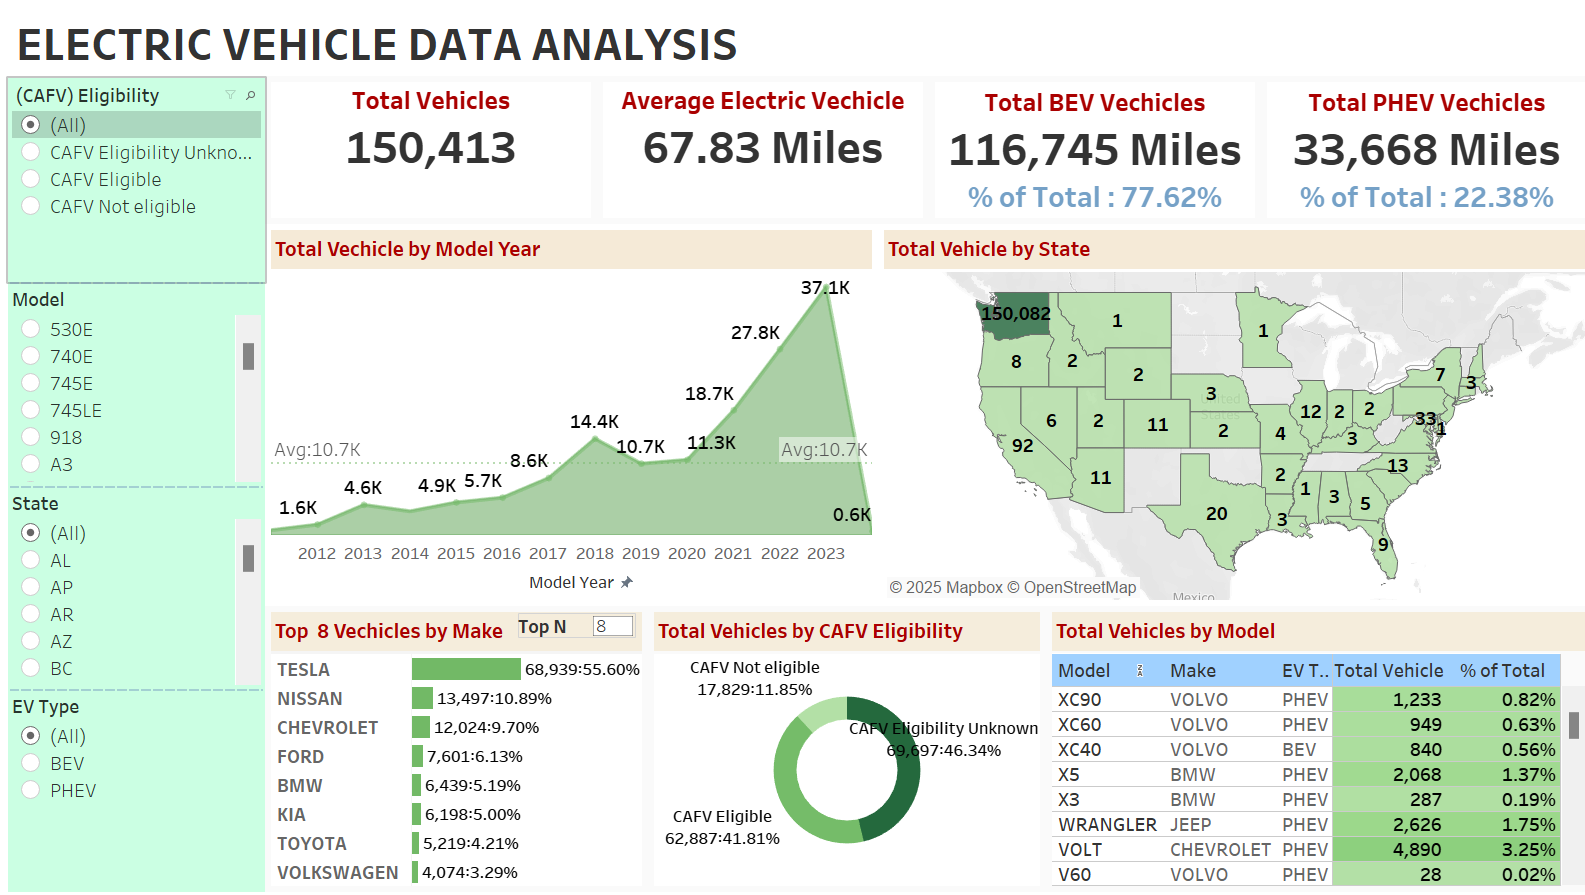

What the dashboard file says about the page in this screenshot:
{"tool":"tableau","page":{"name":"Dashboard 1","canvas":[1600,900],"ordinal":0},"visuals":[{"type":"title","box":[8,8,1584,62]},{"type":"worksheet","title":"Total Vehicle","mark":"Automatic","box":[265,70,332,148]},{"type":"worksheet","title":"Average Electric Vehicle","mark":"Automatic","box":[597,70,332,148]},{"type":"worksheet","title":"Total BEV Vehicles","mark":"Automatic","box":[929,70,332,148]},{"type":"worksheet","title":"Total PHEV Vehicles","mark":"Automatic","box":[1261,70,331,148]},{"type":"filter","title":"Total Vechicle by Model Year","param":"[federated.1fvqeth0szr5161bz7gq1159wcfs].[none:Clean Alternative Fuel Vehicle (C","box":[8,72,257,205]},{"type":"worksheet","title":"Total Vechicle by Model Year","mark":"Area","rows":["Calculation_2545096770953256960","Calculation_2545096770953256960"],"cols":["Model Year"],"box":[265,218,613.5,382]},{"type":"worksheet","title":"Total Vehicle by State","mark":"Multipolygon","box":[878.5,218,713.5,382]},{"type":"filter","title":"Total Vechicle by Model Year","param":"[federated.1fvqeth0szr5161bz7gq1159wcfs].[none:Electric Vehicle Type:nk]","box":[8,277,257,205]},{"type":"filter","title":"Total Vechicle by Model Year","param":"[federated.1fvqeth0szr5161bz7gq1159wcfs].[none:Model:nk]","box":[8,482,257,205]},{"type":"worksheet","title":"Top 10 Vechicles by Make","mark":"Automatic","rows":["Make"],"cols":["Calculation_2545096770953256960"],"box":[265,600,383,292]},{"type":"worksheet","title":"Total Vehicles by CAFV Eligibility","mark":"Pie","rows":["Calculation_2545096771034927117","Calculation_2545096771034927117"],"box":[648,600,398,292]},{"type":"worksheet","title":"Total Vehicles by Model","mark":"Square","rows":["Model","Make","Electric Vehicle Type"],"box":[1046,600,546,292]},{"type":"parameter","param":"[Parameters].[Parameter 1]","box":[518,613,118,25]},{"type":"filter","title":"Total Vechicle by Model Year","param":"[federated.1fvqeth0szr5161bz7gq1159wcfs].[none:State:nk]","box":[8,687,257,205]}]}

Visuals, with their boxes in screenshot pixels (x1, y1, x2, y2), scaled from the page's 1600x900 canvas onto the 1585x895 screenshot:
title: <bbox>8, 8, 1577, 70</bbox>
"Total Vehicle" worksheet: <bbox>263, 70, 591, 217</bbox>
"Average Electric Vehicle" worksheet: <bbox>591, 70, 920, 217</bbox>
"Total BEV Vehicles" worksheet: <bbox>920, 70, 1249, 217</bbox>
"Total PHEV Vehicles" worksheet: <bbox>1249, 70, 1577, 217</bbox>
"Total Vechicle by Model Year" filter: <bbox>8, 72, 263, 275</bbox>
"Total Vechicle by Model Year" worksheet (Area marks): <bbox>263, 217, 870, 597</bbox>
"Total Vehicle by State" worksheet (Multipolygon marks): <bbox>870, 217, 1577, 597</bbox>
"Total Vechicle by Model Year" filter: <bbox>8, 275, 263, 479</bbox>
"Total Vechicle by Model Year" filter: <bbox>8, 479, 263, 683</bbox>
"Top 10 Vechicles by Make" worksheet: <bbox>263, 597, 642, 887</bbox>
"Total Vehicles by CAFV Eligibility" worksheet (Pie marks): <bbox>642, 597, 1036, 887</bbox>
"Total Vehicles by Model" worksheet (Square marks): <bbox>1036, 597, 1577, 887</bbox>
parameter: <bbox>513, 610, 630, 634</bbox>
"Total Vechicle by Model Year" filter: <bbox>8, 683, 263, 887</bbox>
